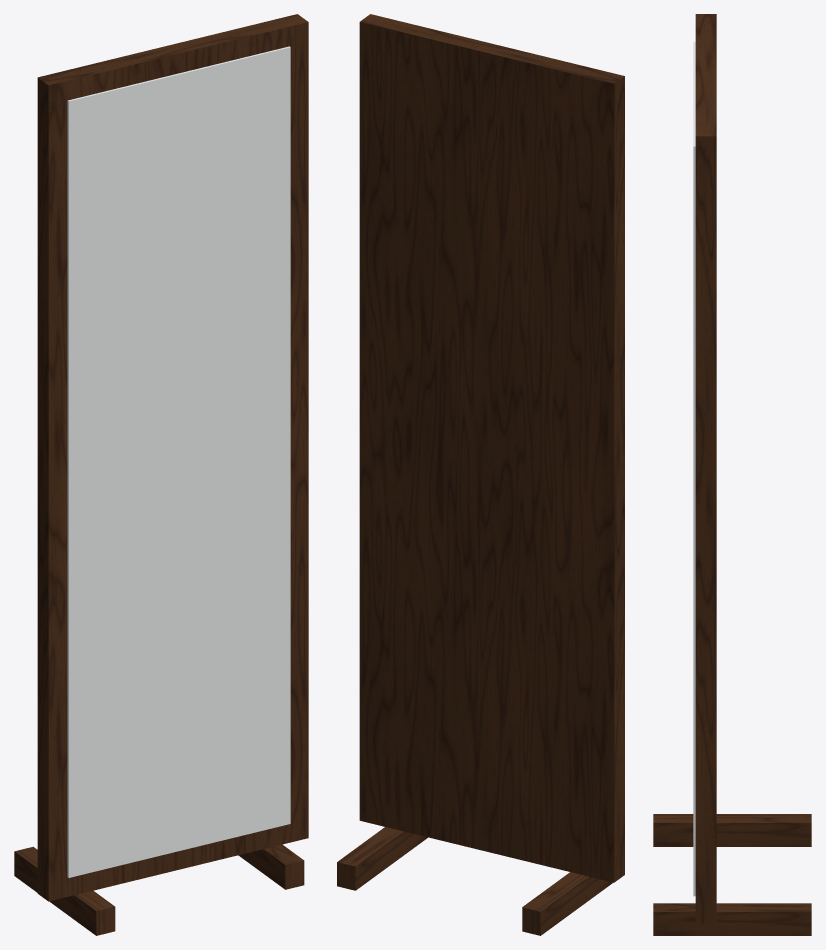
3 renders of one model, left to right at view 1: azimuth 30°, elevation 25°; view 2: azimuth 150°, elevation 25°; view 3: azimuth 270°, elevation 25°, orthographic. The views are drawn at different scales.
Parts seen in each view (by area): view 1: StandingMirror_Game; view 2: StandingMirror_Game; view 3: StandingMirror_Game.
Part boxes in pixels (bbox=[...]): StandingMirror_Game: bbox=[14, 14, 308, 935]; StandingMirror_Game: bbox=[337, 14, 624, 935]; StandingMirror_Game: bbox=[653, 14, 811, 935].
Size of the model in its own units: 0.55 by 1.7 by 0.3.
Materials: 2 (1 with a texture image).
